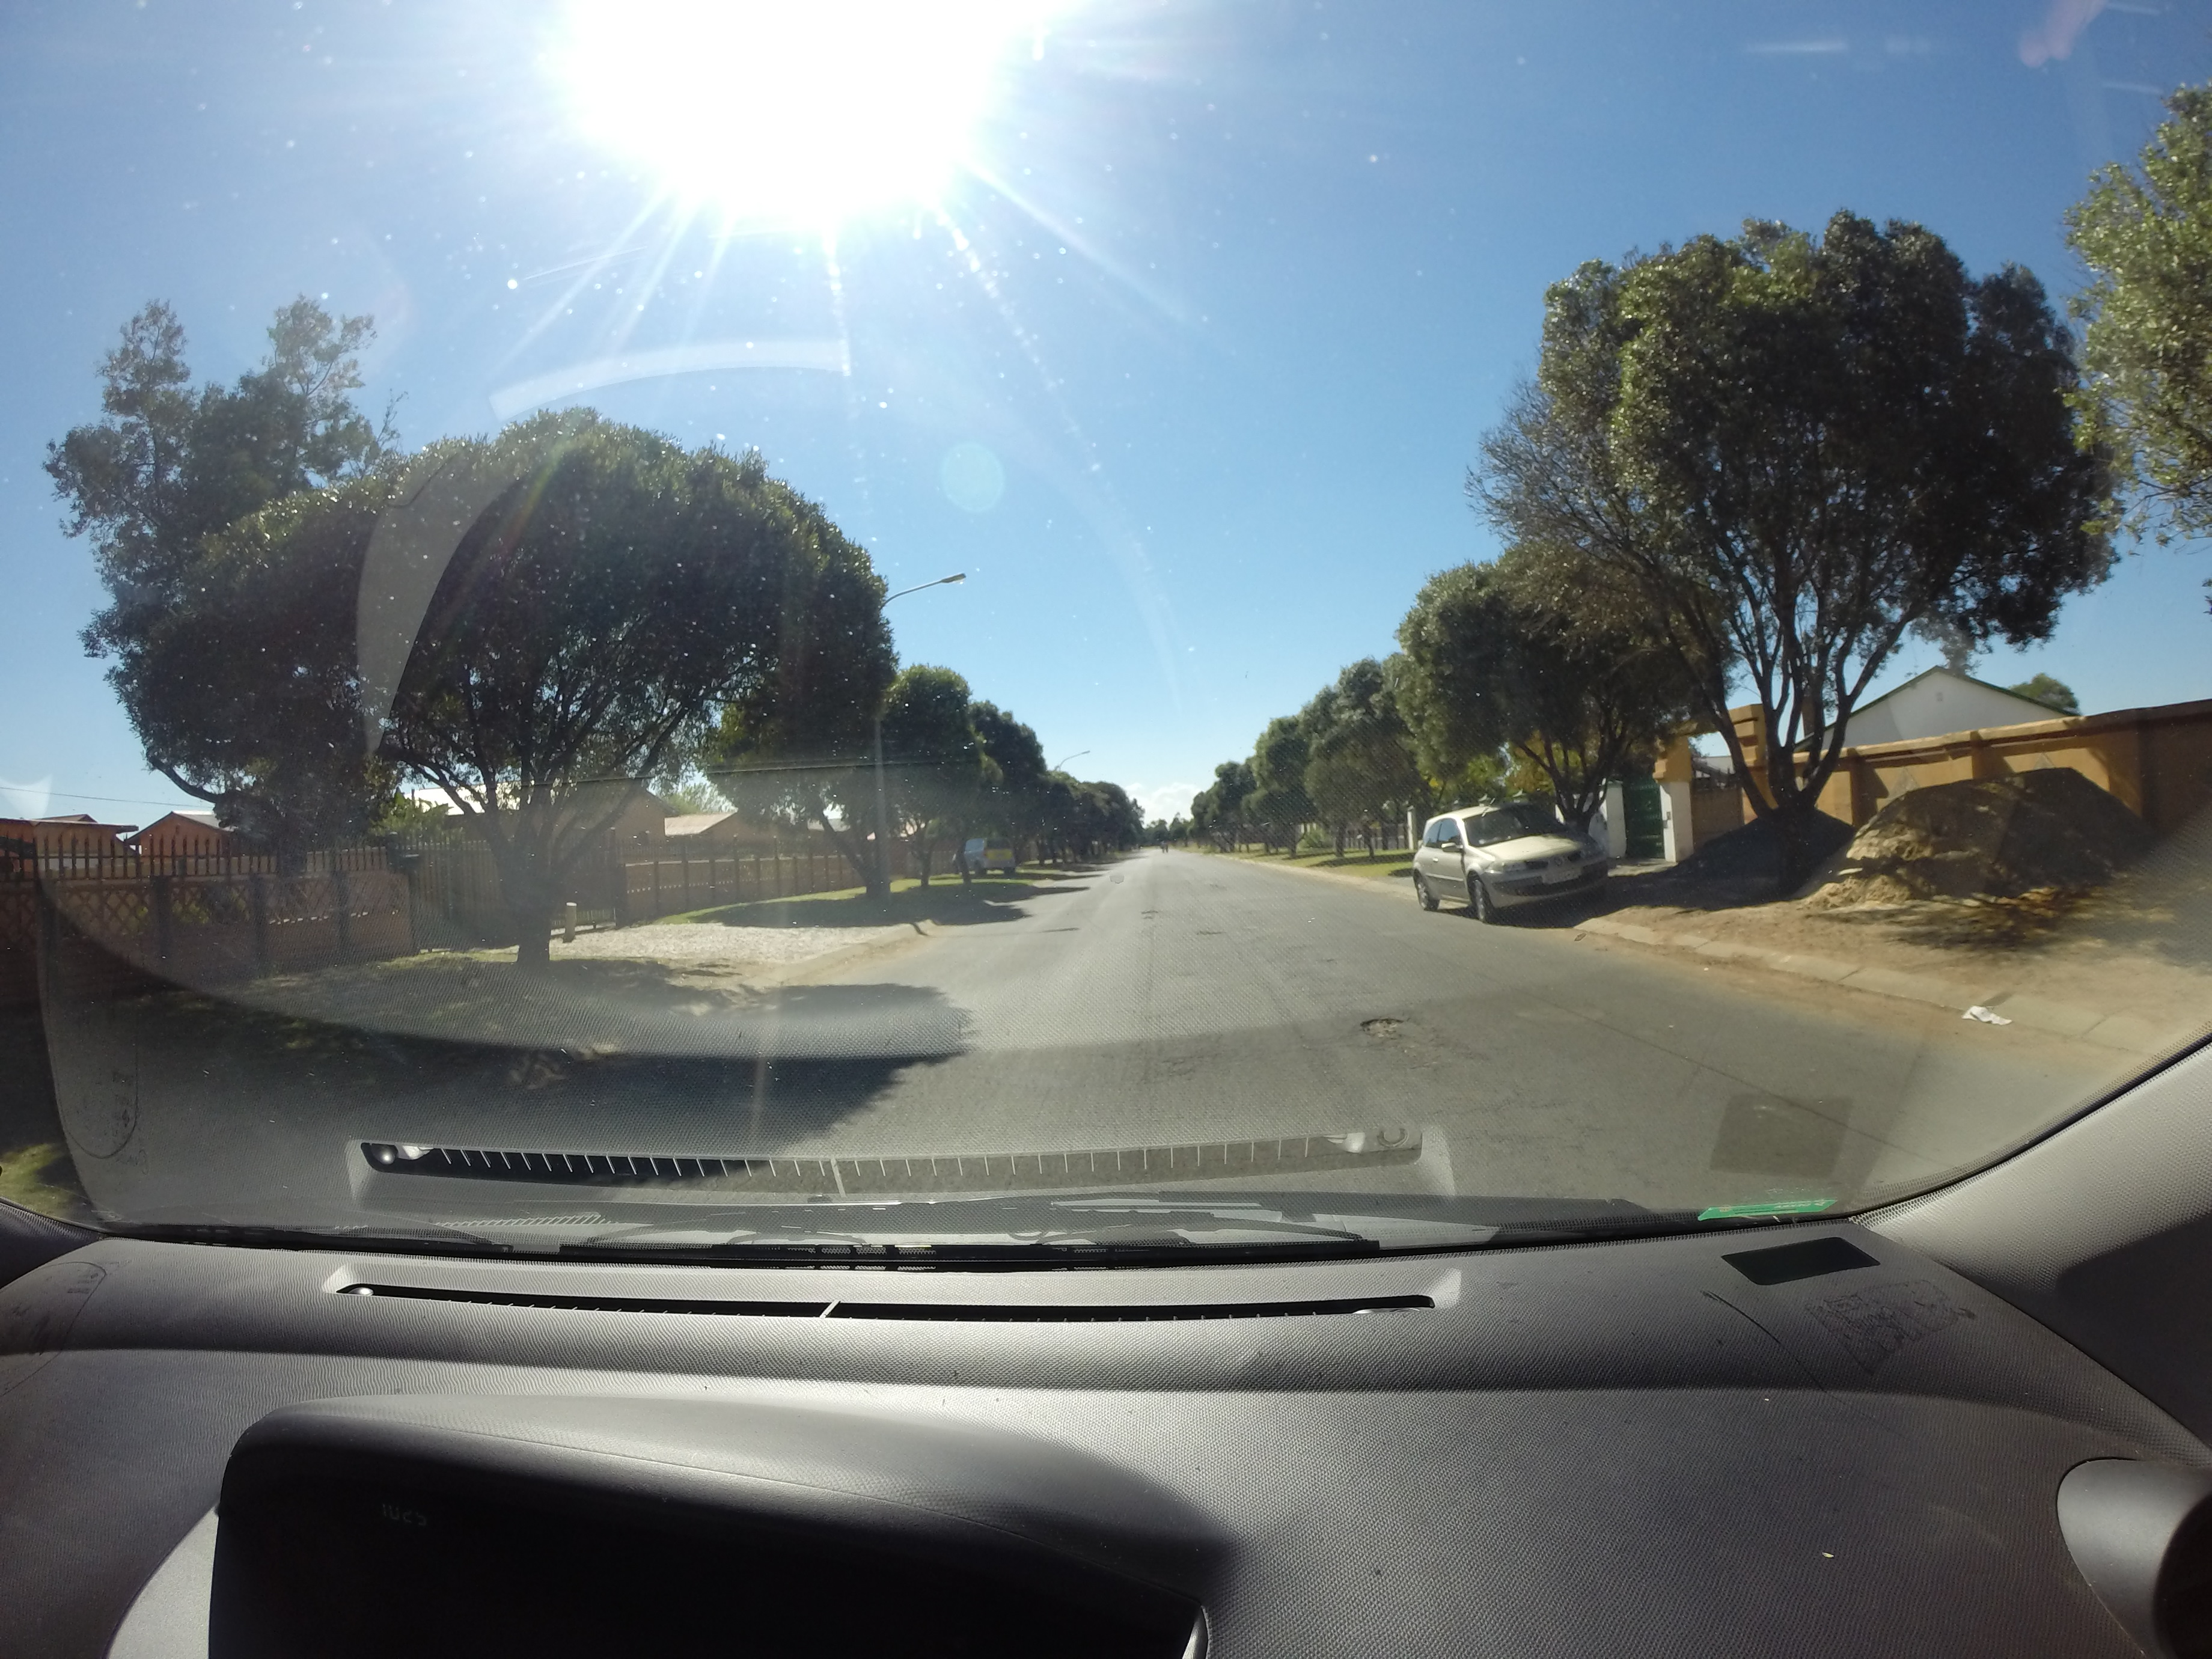pothole: (1258, 967, 1573, 1070)
